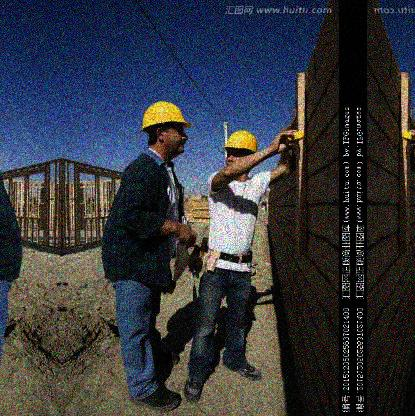helmet: (140, 100, 193, 156), (225, 130, 258, 174)
